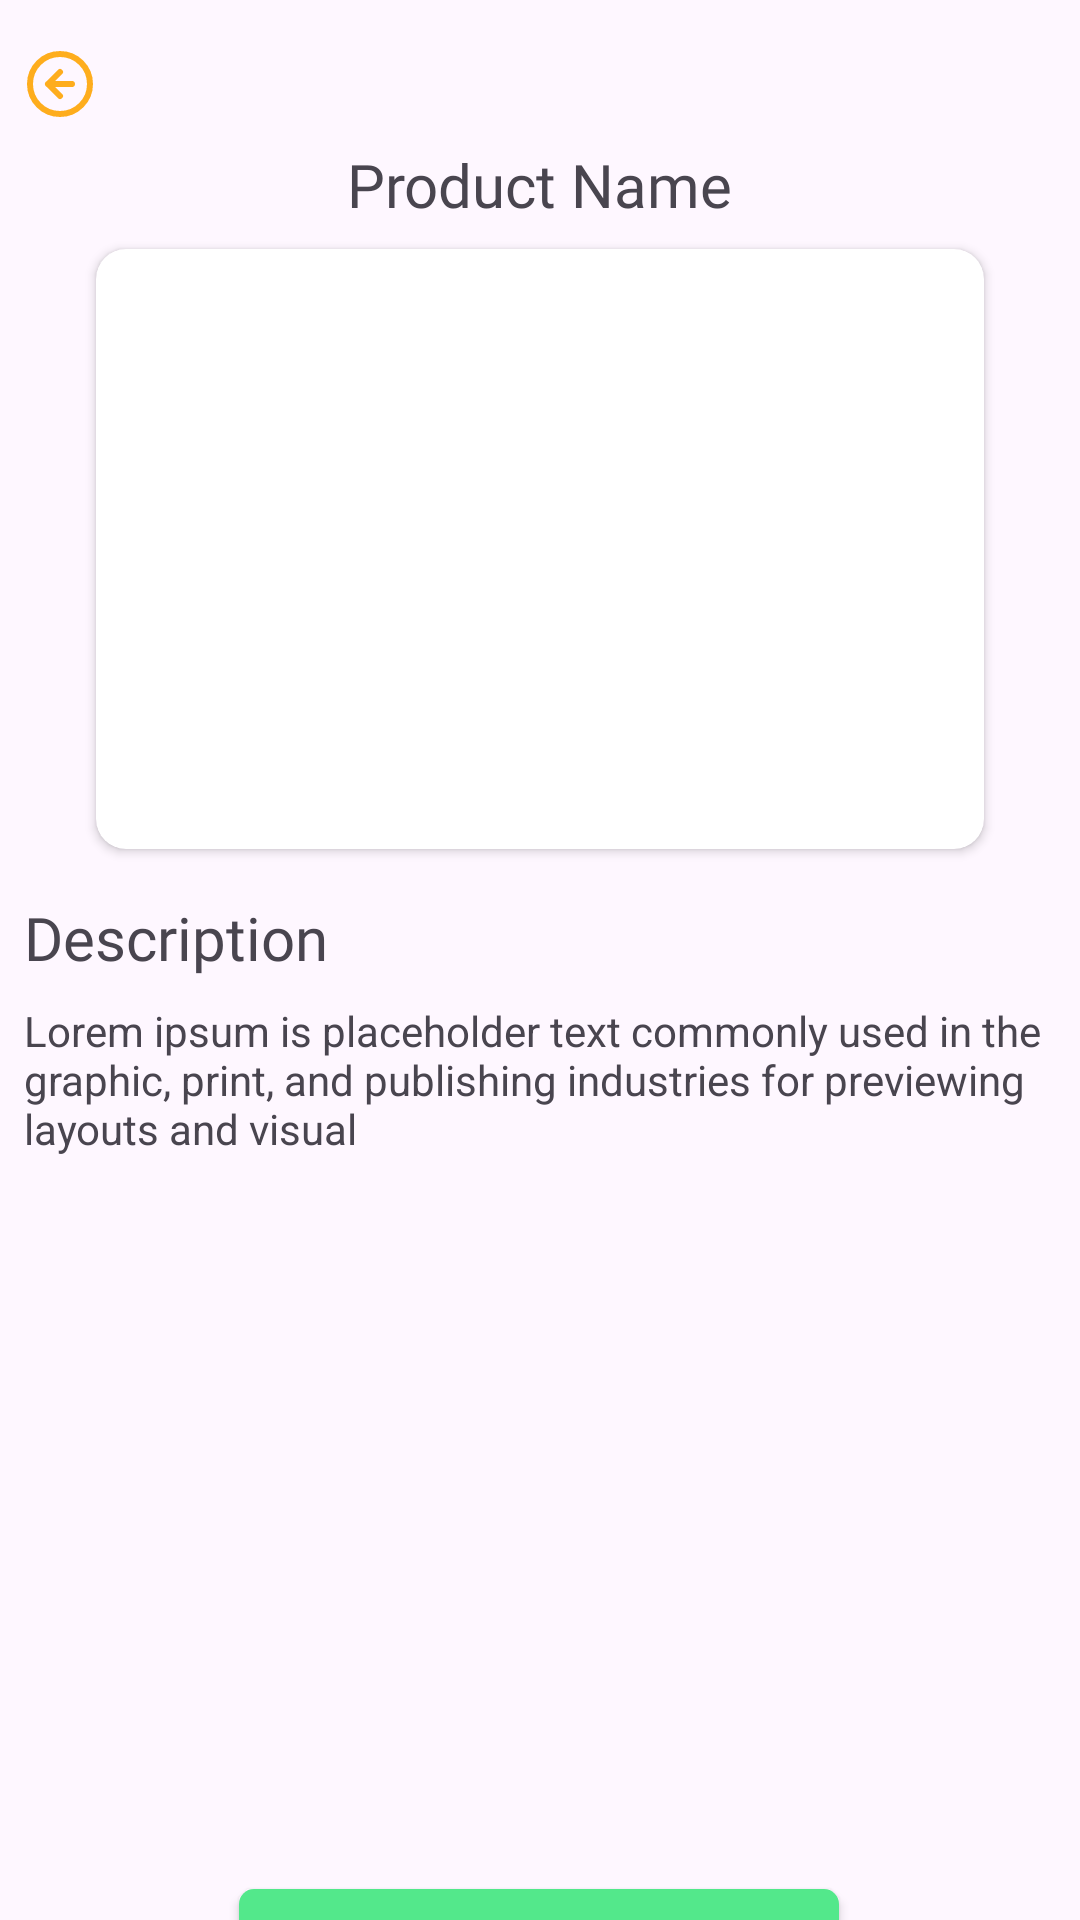

Named icons in this screenshot (1080x1920) and their centers, (x=x, y=y):
arrow left: (x=60, y=84)
